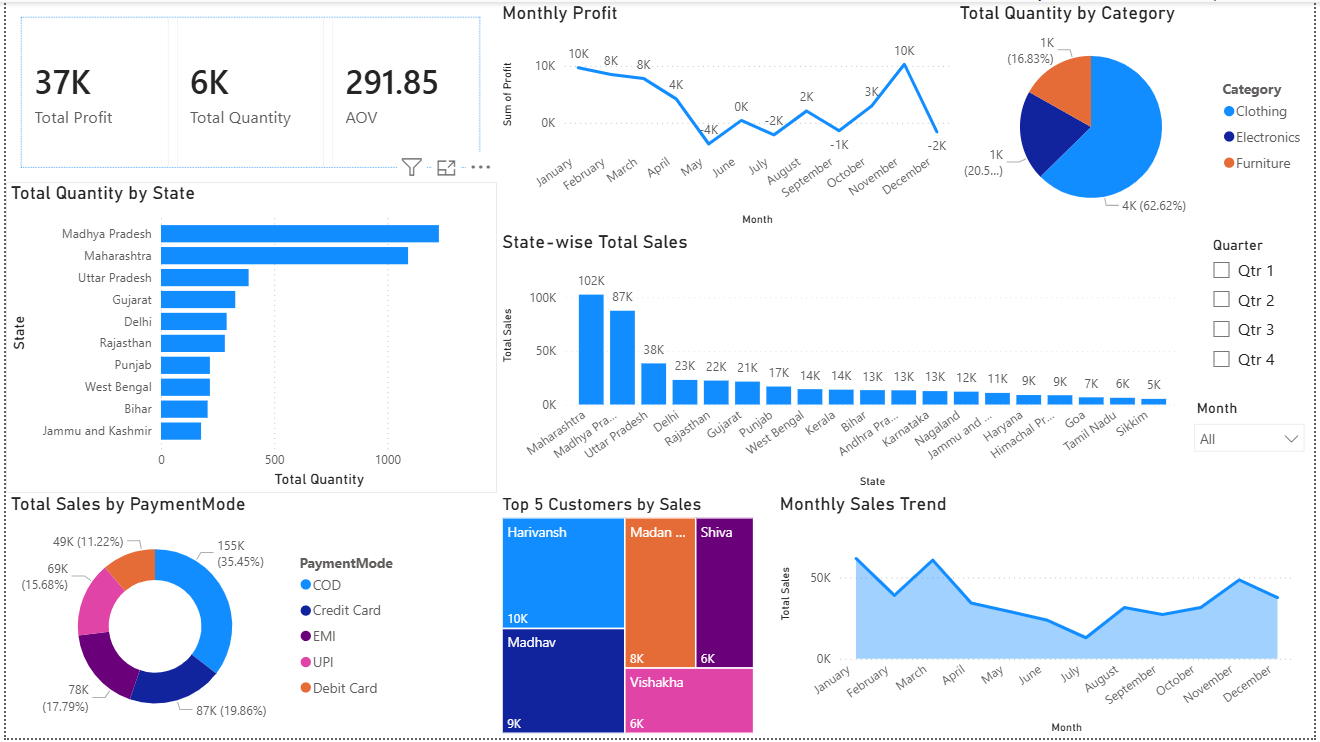

This screenshot's page, from the dashboard's own definition file:
{"tool":"powerbi","page":{"name":"1-Power BI Order-Details-Project","canvas":[1280,720],"ordinal":0},"visuals":[{"type":"cardVisual","fields":{"Data":["Details.Total Profit","Details.Total Quantity","Orders.AOV"]},"box":[0,0,480,176],"z":0},{"type":"lineChart","title":"Monthly Profit Trend","fields":{"Y":["Sum(Details.Profit)"],"Category":["Orders.Order Date.Variation.Date Hierarchy.Month"]},"box":[480,0,480,224],"z":1000},{"type":"columnChart","title":"State-wise Total Sales","fields":{"Category":["Orders.State"],"Y":["Details.Total Sales"]},"box":[480,224,688,256],"z":2000},{"type":"pieChart","fields":{"Category":["Details.Category"],"Y":["Details.Total Quantity"]},"box":[960,0,320,224],"z":3000},{"type":"donutChart","fields":{"Category":["Details.PaymentMode"],"Y":["Details.Total Sales"]},"box":[0,480,448,240],"z":4000},{"type":"areaChart","title":"Monthly Sales Trend","fields":{"Category":["Orders.Order Date.Variation.Date Hierarchy.Month"],"Y":["Details.Total Sales"]},"box":[768,480,512,240],"z":5000},{"type":"clusteredBarChart","fields":{"Category":["Orders.State"],"Y":["Details.Total Quantity"]},"box":[0,176,480,304],"z":6000},{"type":"slicer","fields":{"Values":["Orders.Order Date.Variation.Date Hierarchy.Month"]},"box":[1168,384,112,96],"z":7000},{"type":"slicer","fields":{"Values":["Orders.Order Date.Variation.Date Hierarchy.Quarter"]},"box":[1168,224,112,160],"z":8000},{"type":"treemap","title":"Top 5 Customers","fields":{"Group":["Orders.CustomerName"],"Values":["Details.Total Sales"]},"box":[448,480,320,240],"z":9000}]}

Visuals, with their boxes in screenshot pixels (x1, y1, x2, y2), scaled from the page's 1280x720 canvas onto the 1320x742 screenshot:
cardVisual - Details.Total Profit x Details.Total Quantity: box=[0, 0, 495, 181]
"Monthly Profit Trend" lineChart: box=[495, 0, 990, 231]
"State-wise Total Sales" columnChart: box=[495, 231, 1204, 495]
pieChart - Details.Category x Details.Total Quantity: box=[990, 0, 1319, 231]
donutChart - Details.PaymentMode x Details.Total Sales: box=[0, 495, 462, 741]
"Monthly Sales Trend" areaChart: box=[792, 495, 1319, 741]
clusteredBarChart - Orders.State x Details.Total Quantity: box=[0, 181, 495, 495]
slicer - Orders.Order Date.Variation.Date Hierarchy.Month: box=[1204, 396, 1319, 495]
slicer - Orders.Order Date.Variation.Date Hierarchy.Quarter: box=[1204, 231, 1319, 396]
"Top 5 Customers" treemap: box=[462, 495, 792, 741]
